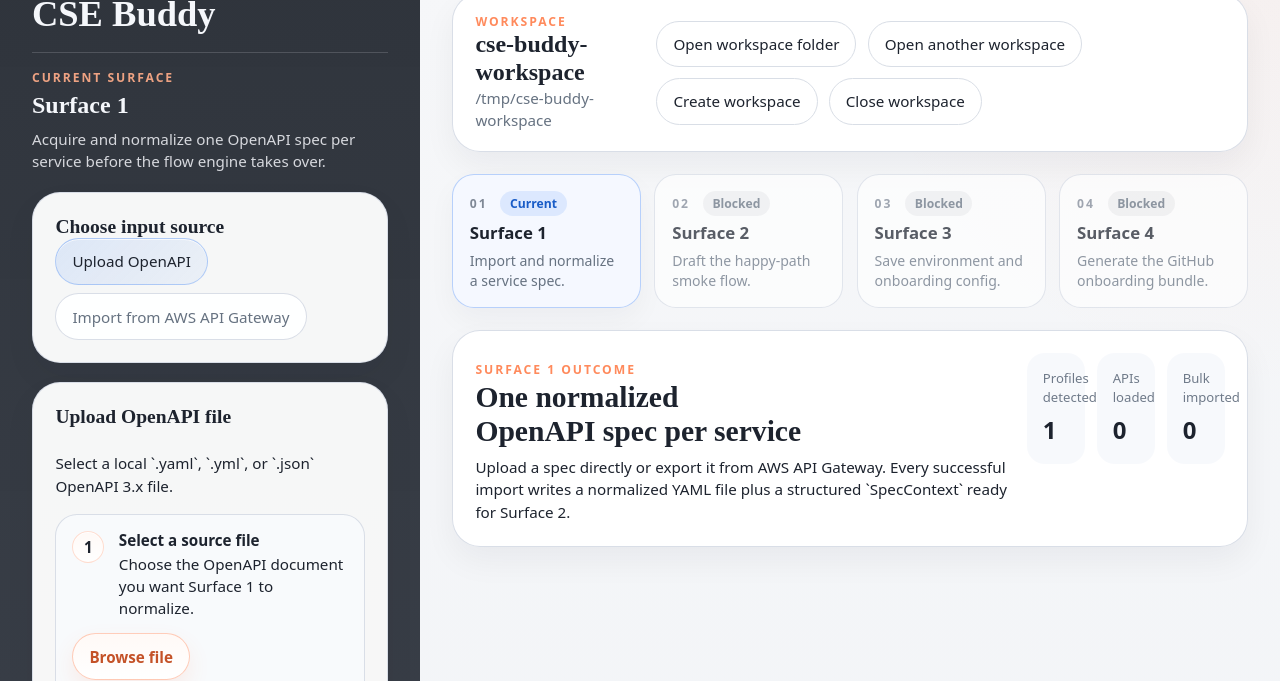
Test: App › imports an uploaded spec and renders the summary
What coordinates should you click on to do the following:
click the button "Browse file"
I would click on:
 (131, 657)
Its box is [72,634,190,680].
(page scrolled)
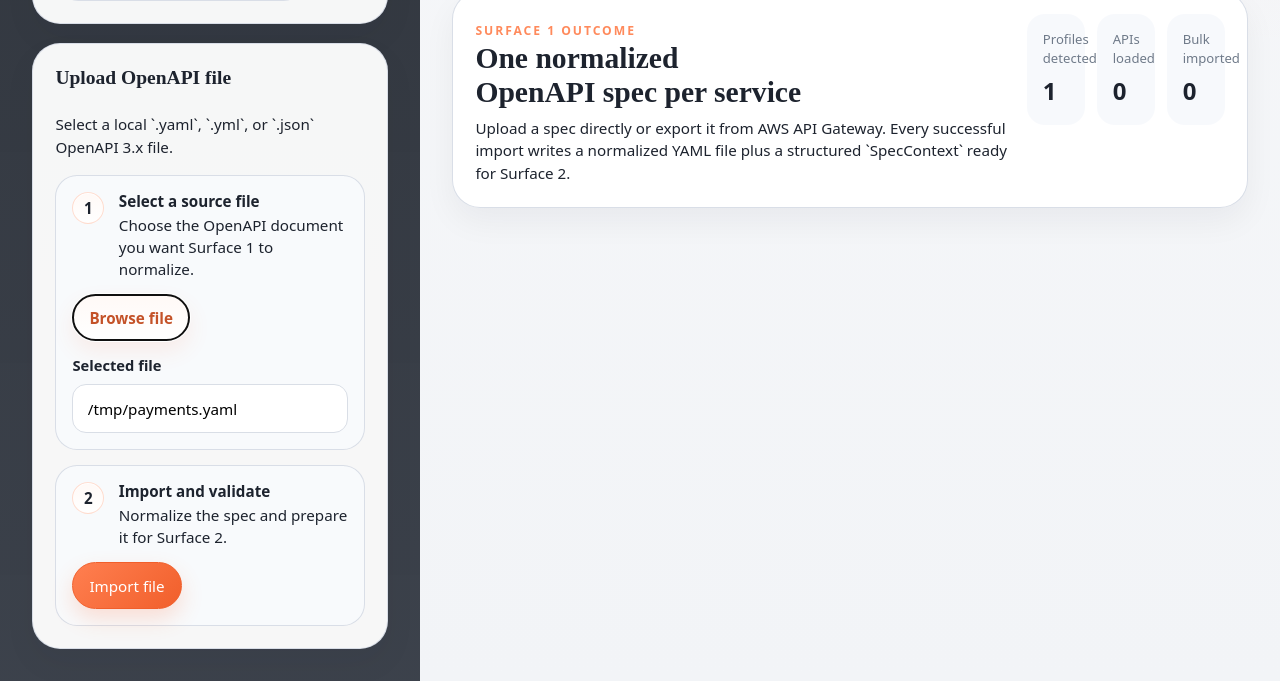
What coordinates should you click on to do the following:
click the button "Import file"
I would click on:
 (127, 586)
Its box is [72,562,182,609].
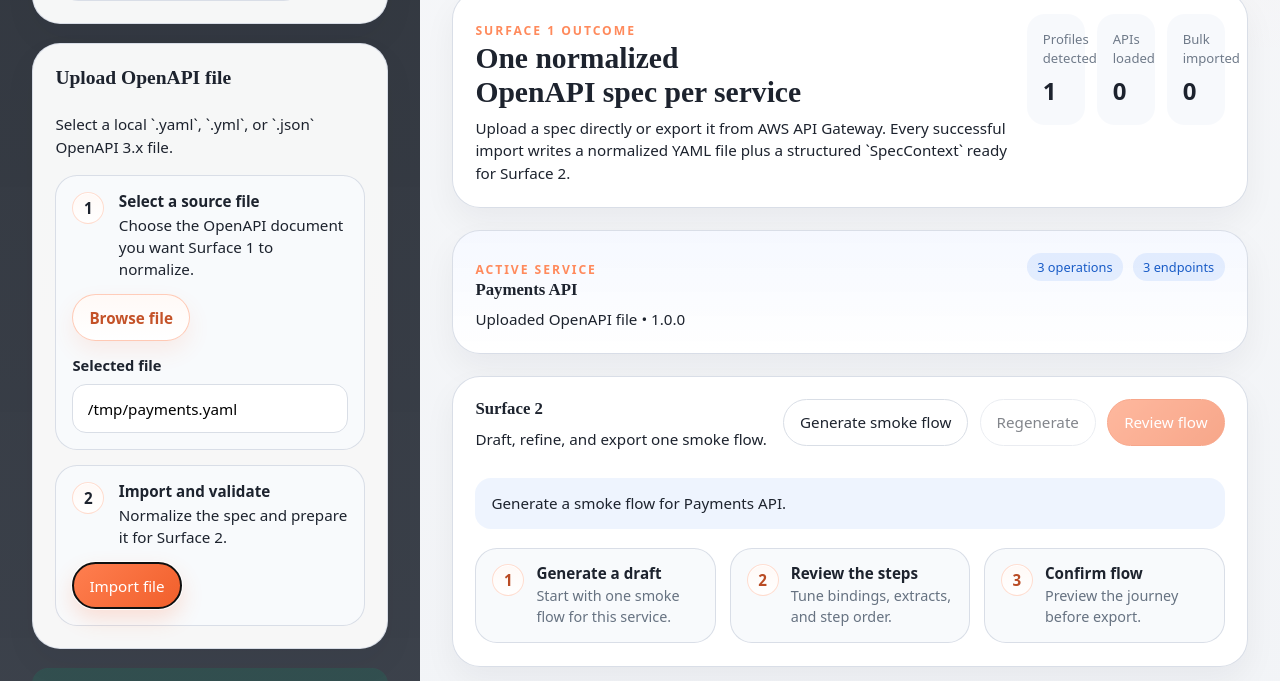
Expected: the text "Active service" is shown, [475,261,597,278]
Expected: the text "Generate a draft" is shown, [536,563,662,583]
